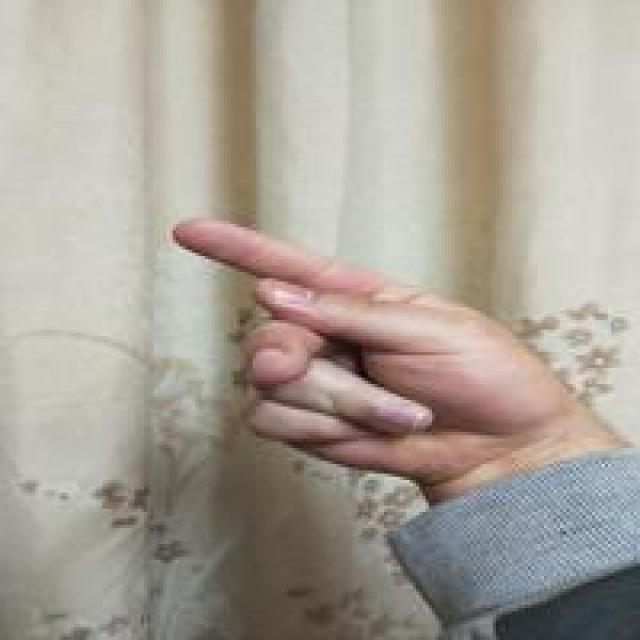K: (167, 192, 582, 467)
